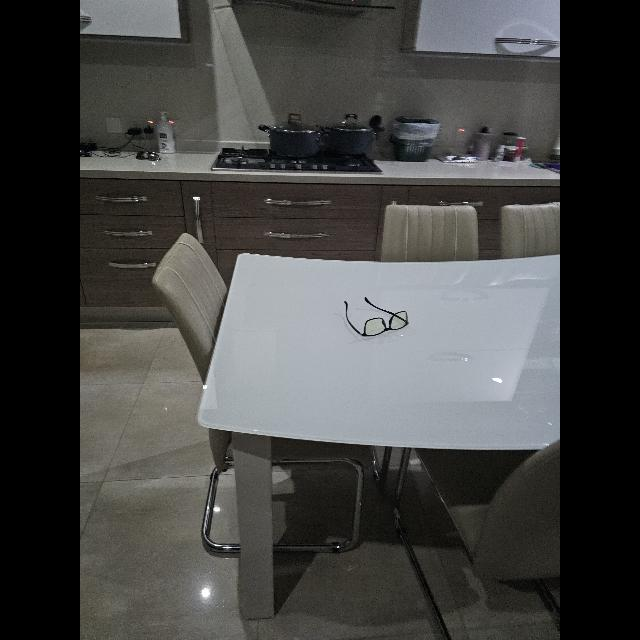glasses: (344, 297, 408, 337)
